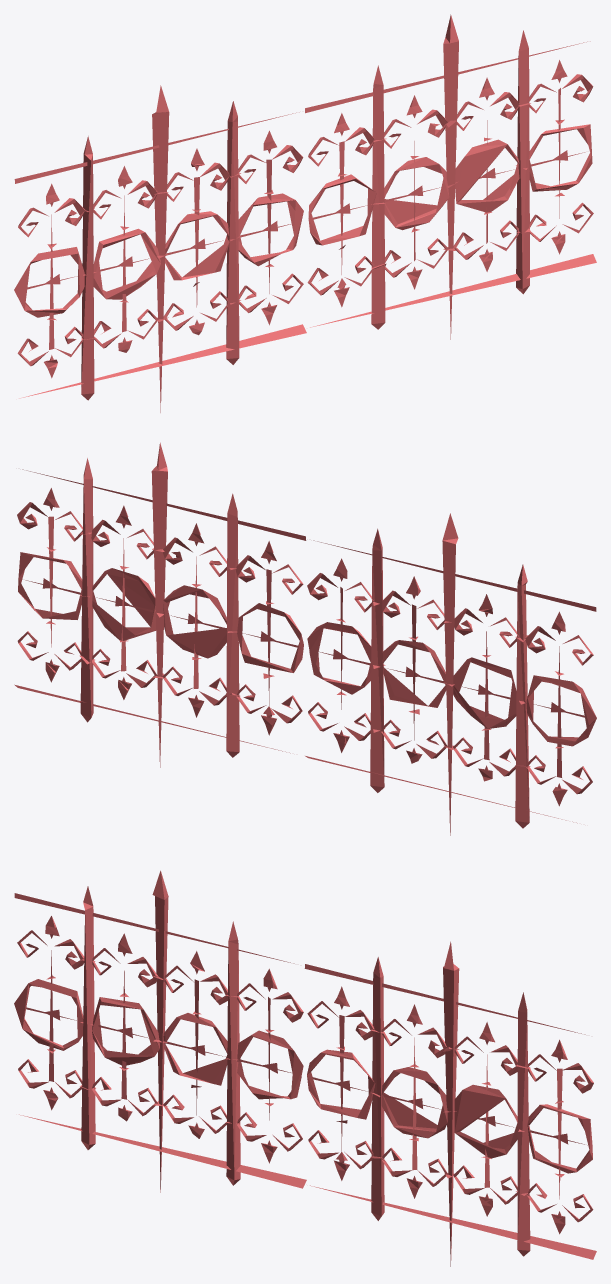
The model's file is metal_fence_test_1.fbx.
3 views of the same model, one above another, from view 1: azimuth 30°, elevation 25°; view 2: azimuth 150°, elevation 25°; view 3: azimuth 330°, elevation 25° (orthographic).
Visible parts, largest first — view 1: metal_fence_001; view 2: metal_fence_001; view 3: metal_fence_001.
Boxes of the visible parts, x1,y1,x2,y2 form: metal_fence_001: (14,14,596,412); metal_fence_001: (14,442,596,835); metal_fence_001: (14,870,596,1266).
Size of the model in its own units: 290 by 157 by 7.23.
